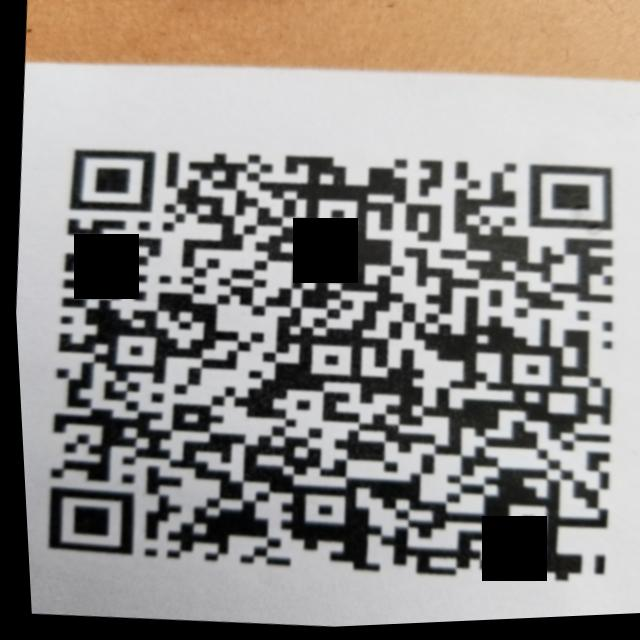QR_CODE: (8, 102, 640, 622)
